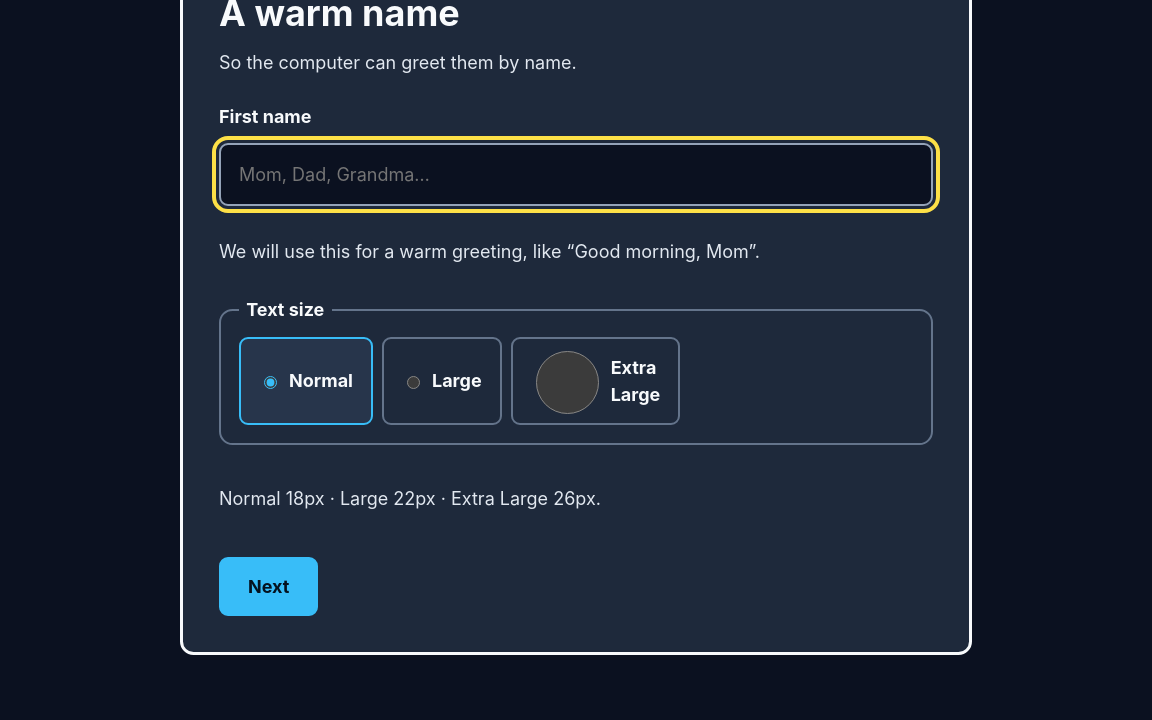
SetupWizard › opens on step one and blocks progress until a name is entered
The image size is (1152, 720).
(page scrolled)
Expected: the heading "A warm name" is shown, [219,0,460,35]
Click the button "Next" at (269, 586), box [219,557,318,616]
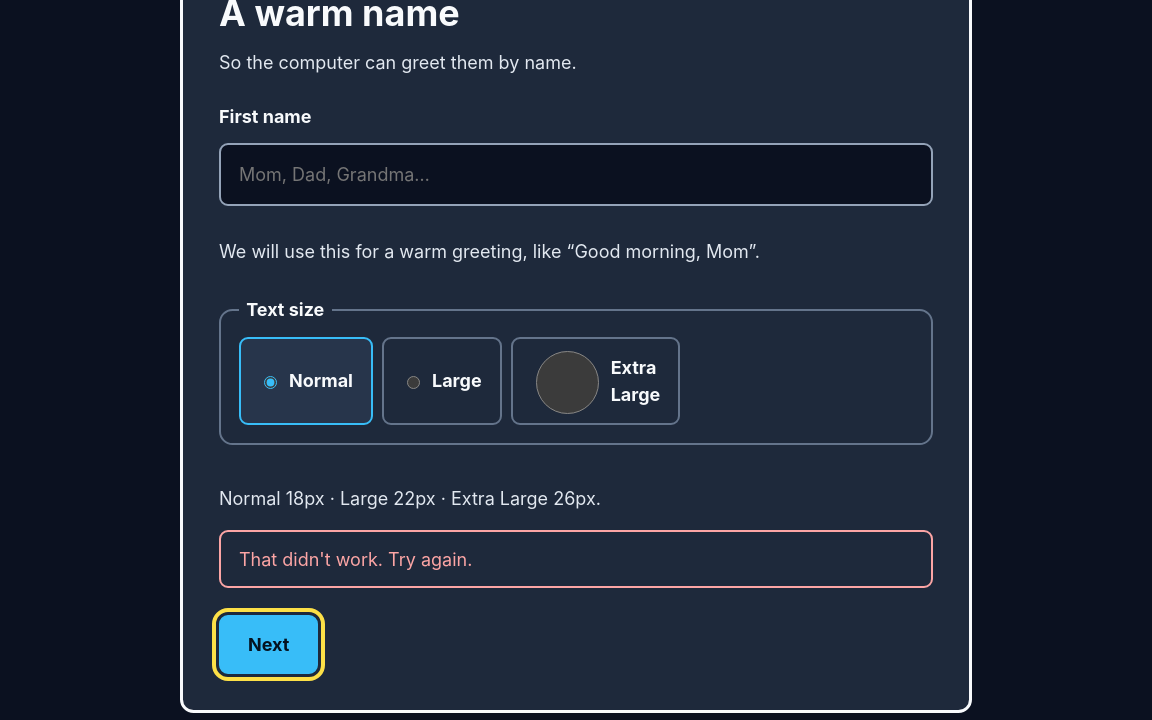
Expected: the message shows "That didn't work", [239,549,472,570]
Type "Mom" into the field labelled "First name" at (576, 175), box [219,143,933,206]
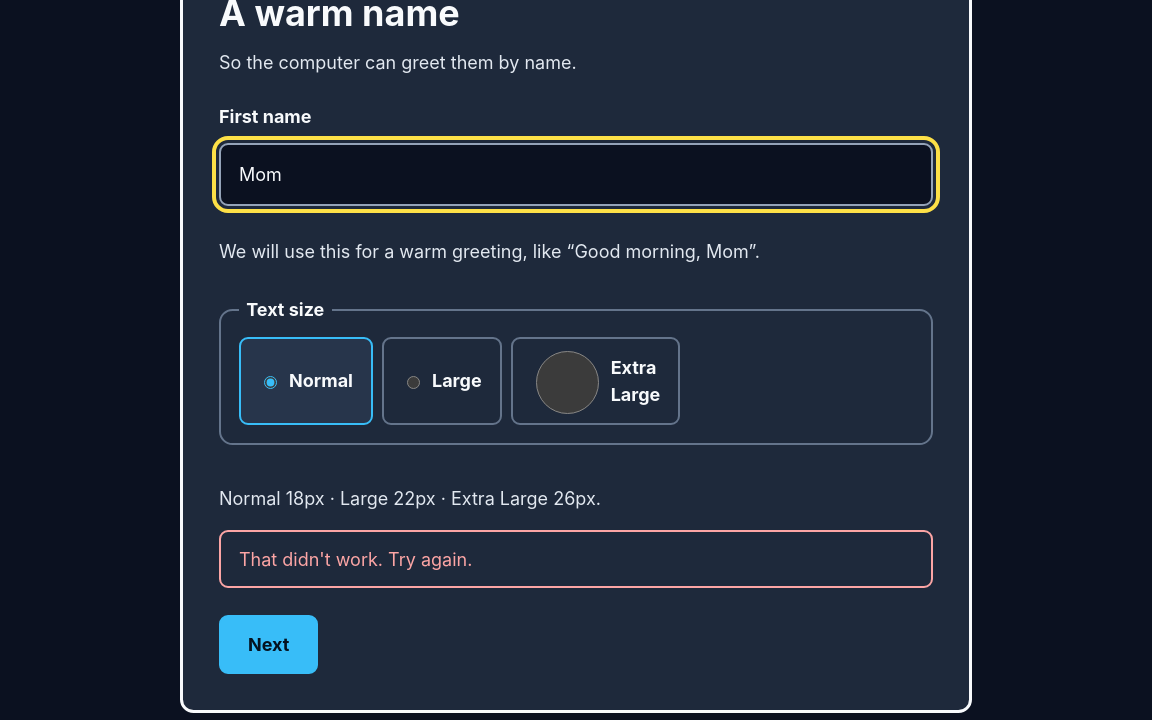
Click the button "Next" at (269, 644), box [219,615,318,674]
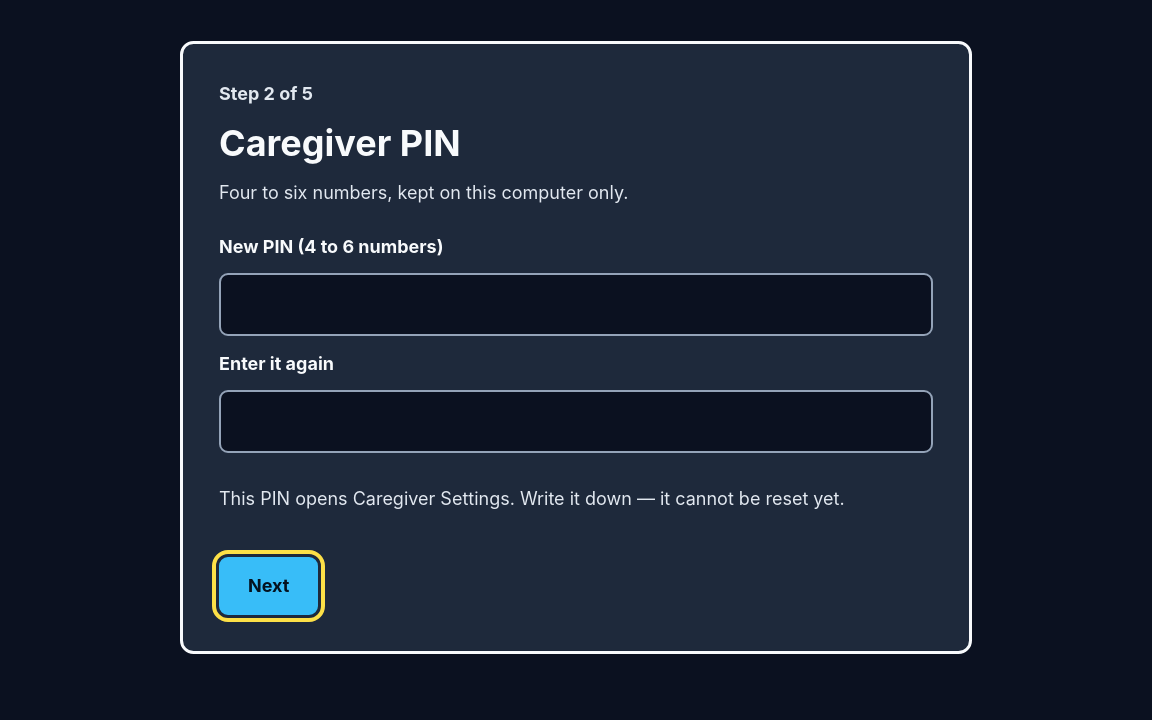
Expected: the text "Step 2 of 5" is shown, [219,83,313,104]
